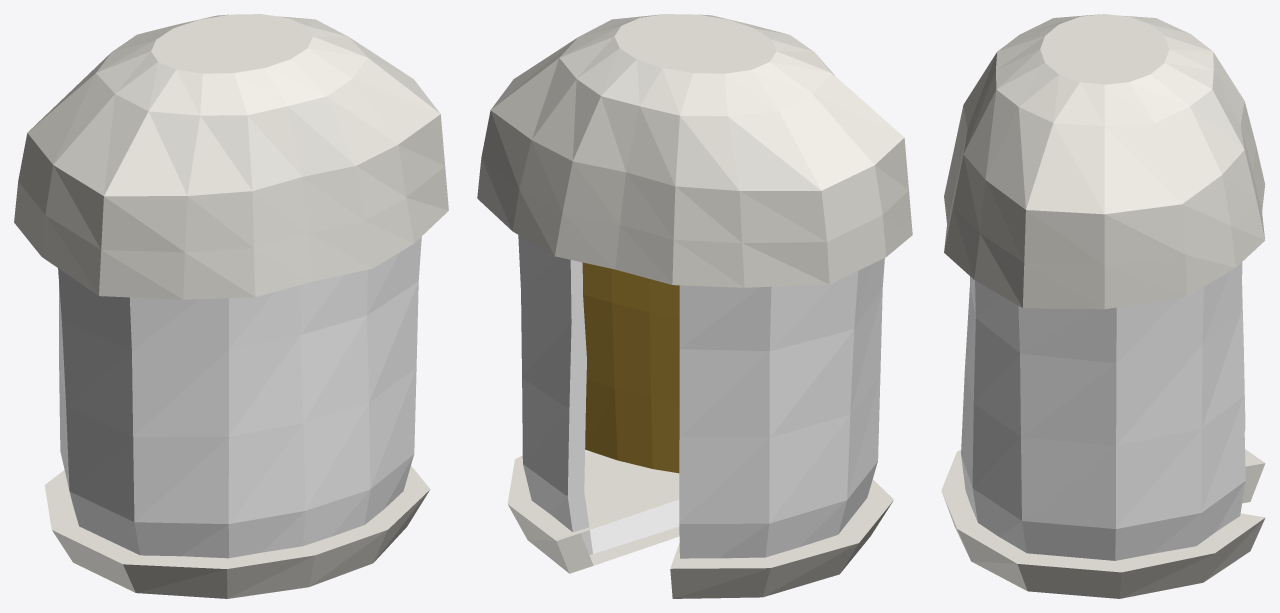
Rendered from vfem2_male_kings_robes.obj.
3 views of the same model, side by side, from view 1: azimuth 30°, elevation 25°; view 2: azimuth 150°, elevation 25°; view 3: azimuth 270°, elevation 25° (orthographic). The views are drawn at different scales.
Parts seen in each view (by area): view 1: vfem2_male_kings_robes; view 2: vfem2_male_kings_robes; view 3: vfem2_male_kings_robes.
Boxes of the visible parts, x1,y1,x2,y2 form: vfem2_male_kings_robes: [14, 14, 448, 598]; vfem2_male_kings_robes: [477, 14, 912, 598]; vfem2_male_kings_robes: [941, 14, 1265, 598].
Bounding box in the file's own units: 0.6454 × 0.79 × 0.4865.
